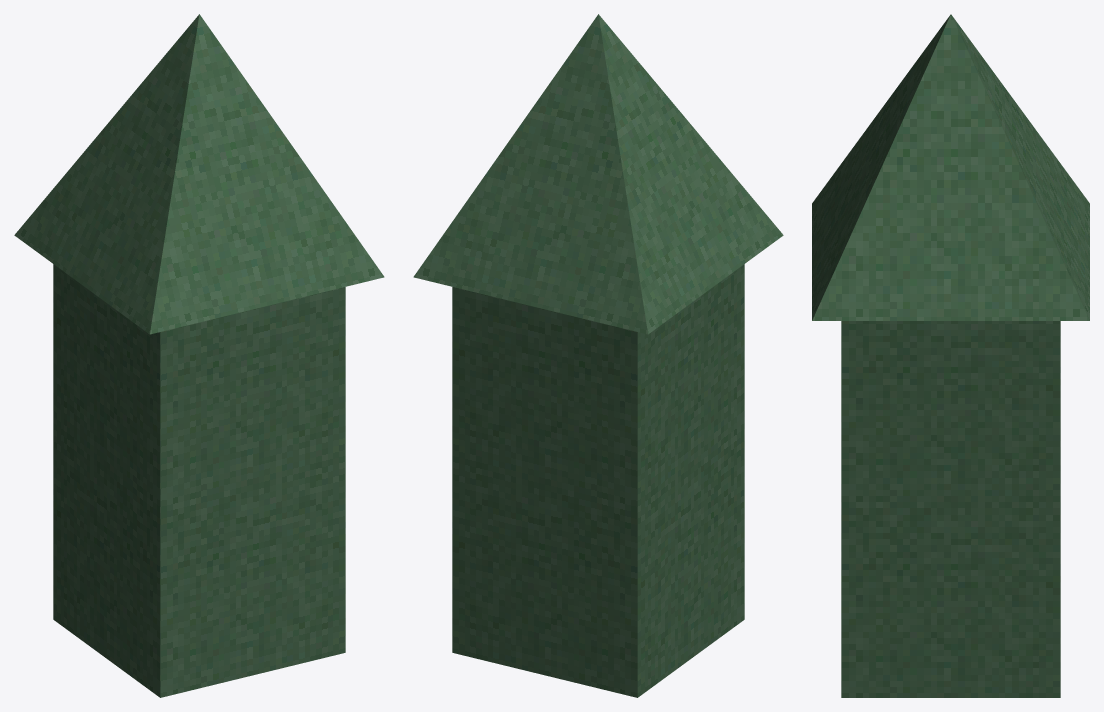
The model's file is ChurchTower.fbx.
3 renders of one model, left to right at view 1: azimuth 30°, elevation 25°; view 2: azimuth 150°, elevation 25°; view 3: azimuth 270°, elevation 25°, orthographic. The views are drawn at different scales.
Visible parts, largest first — view 1: ChurchTower; view 2: ChurchTower; view 3: ChurchTower.
Part boxes in pixels (bbox=[...]): ChurchTower: bbox=[14, 14, 384, 697]; ChurchTower: bbox=[413, 14, 783, 697]; ChurchTower: bbox=[812, 14, 1089, 697].
Bounding box in the file's own units: 2.54 × 2.54 × 6.42.
